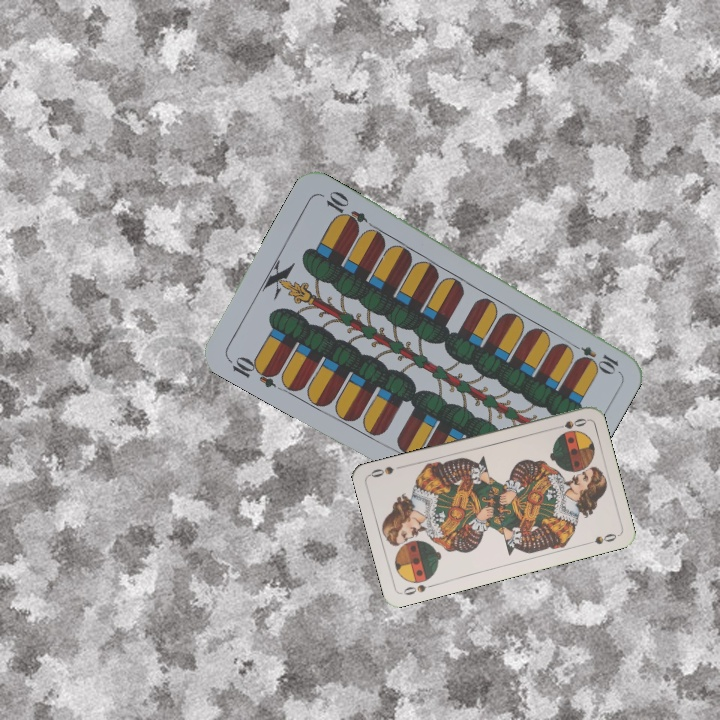E10: (224, 352, 282, 390), (565, 338, 621, 375)
SO: (549, 414, 589, 432), (398, 580, 438, 598)
